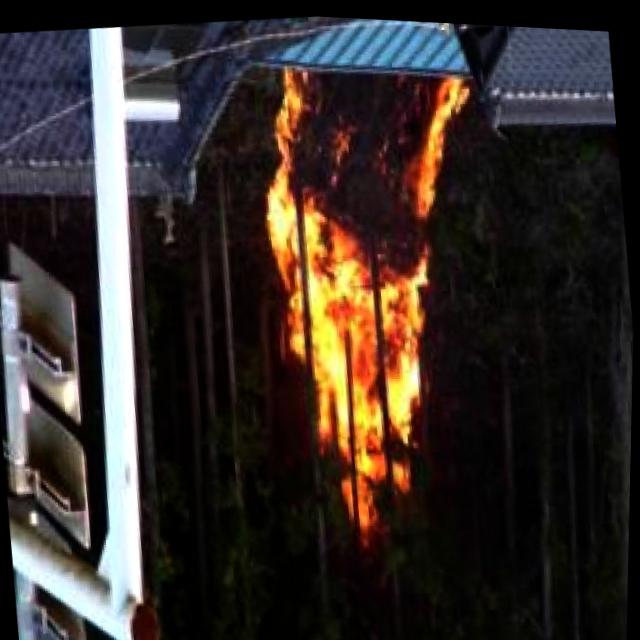Fire: (227, 45, 525, 572)
